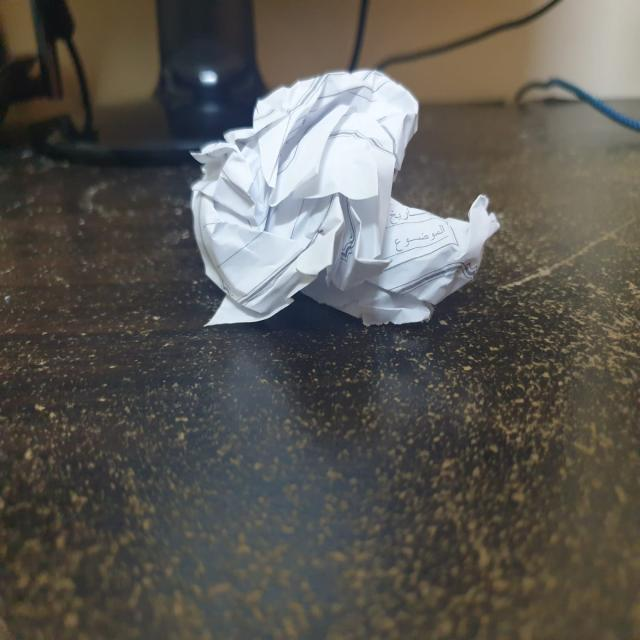Paper: (193, 70, 501, 325)
